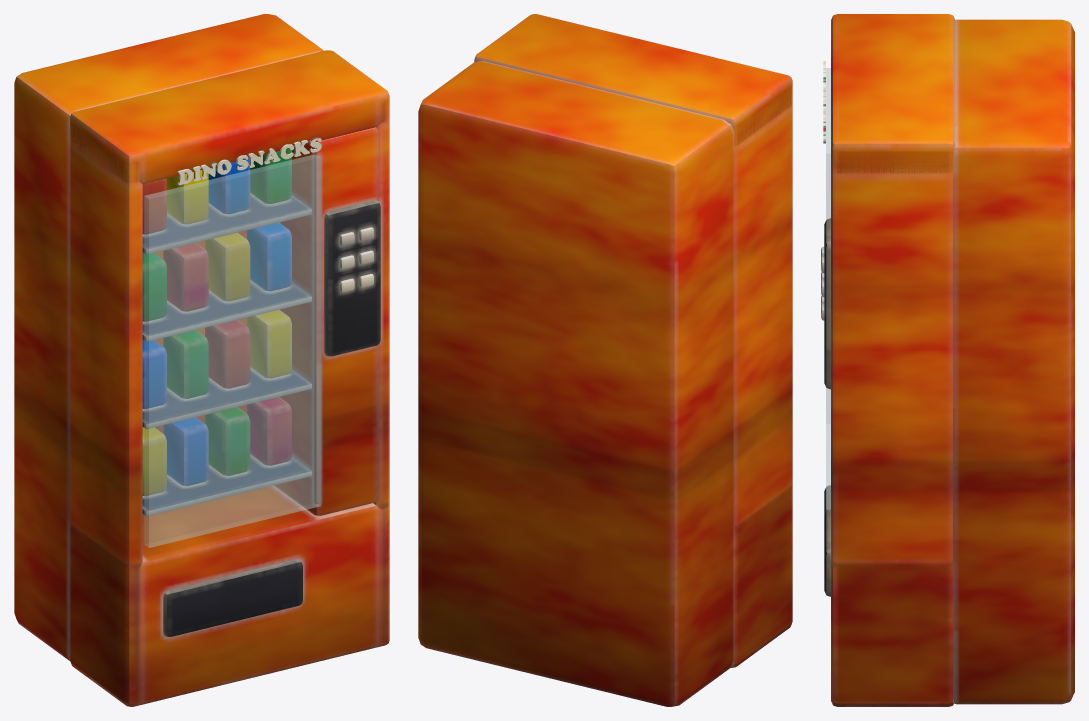
The model's file is vending_machine.glb.
3 views of the same model, side by side, from view 1: azimuth 30°, elevation 25°; view 2: azimuth 150°, elevation 25°; view 3: azimuth 270°, elevation 25° (orthographic). The views are drawn at different scales.
Visible parts, largest first — view 1: SM_VendingMachine; view 2: SM_VendingMachine; view 3: SM_VendingMachine.
Boxes of the visible parts, left/top/right/bottom form: SM_VendingMachine: left=14, top=14, right=389, bottom=706; SM_VendingMachine: left=418, top=14, right=792, bottom=706; SM_VendingMachine: left=821, top=14, right=1074, bottom=706.
Size of what is drawn, in the model's own units: 0.95 by 1.91 by 0.775.
2 materials, 1 textured.
